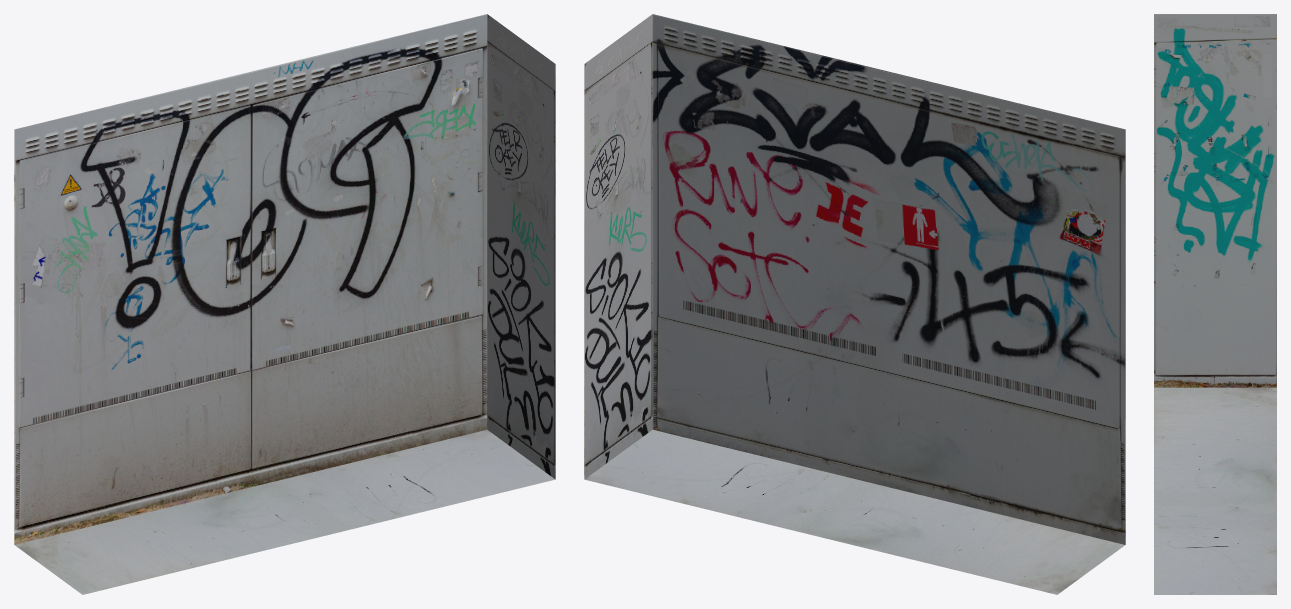
File: electricity box.glb
The picture shows the model from 3 angles, left to right: view 1: azimuth 30°, elevation 25°; view 2: azimuth 150°, elevation 25°; view 3: azimuth 270°, elevation 25°; orthographic projection. The views are drawn at different scales.
Visible parts, largest first — view 1: Electricity Box 1; view 2: Electricity Box 1; view 3: Electricity Box 1.
Boxes of the visible parts, bbox=[...] form: Electricity Box 1: bbox=[14, 14, 555, 594]; Electricity Box 1: bbox=[584, 14, 1125, 594]; Electricity Box 1: bbox=[1154, 14, 1276, 594].
Size of the model in its own units: 2 by 1.68 by 0.5.
Materials: 1 (1 with a texture image).
